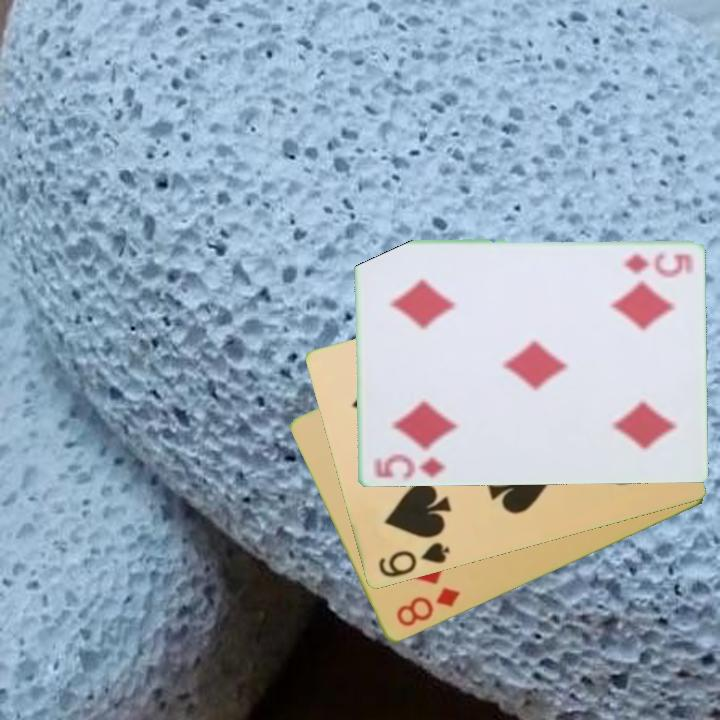5d: (368, 451, 448, 483), (620, 248, 695, 274)
6s: (374, 539, 453, 581)
8d: (392, 584, 462, 630)
